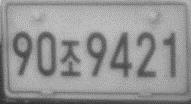0: (36, 32, 56, 75)
1: (162, 32, 178, 79)
2: (133, 32, 158, 79)
4: (110, 31, 132, 79)
9: (85, 32, 108, 78), (11, 31, 32, 75)
조: (58, 39, 82, 78)
